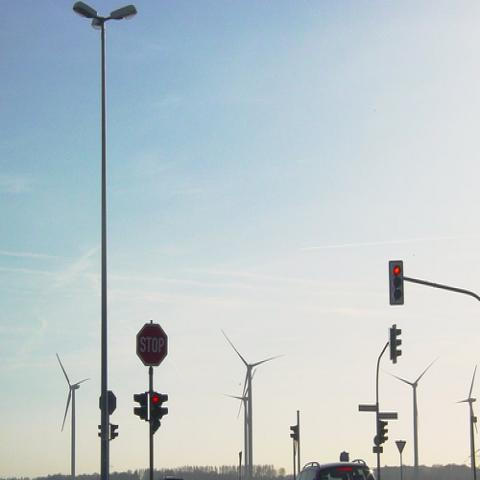car: (298, 459, 370, 474)
